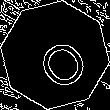O_NW: (22, 22, 88, 88)
